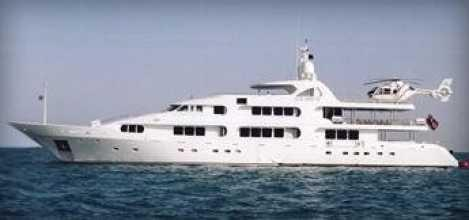airplane: (362, 73, 451, 102)
yacht: (4, 55, 457, 168)
